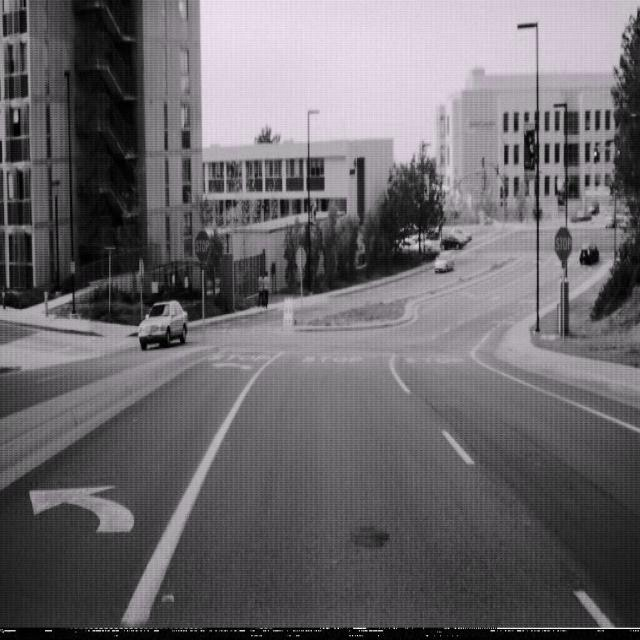stop_sign: (193, 227, 211, 265), (554, 225, 572, 262)
